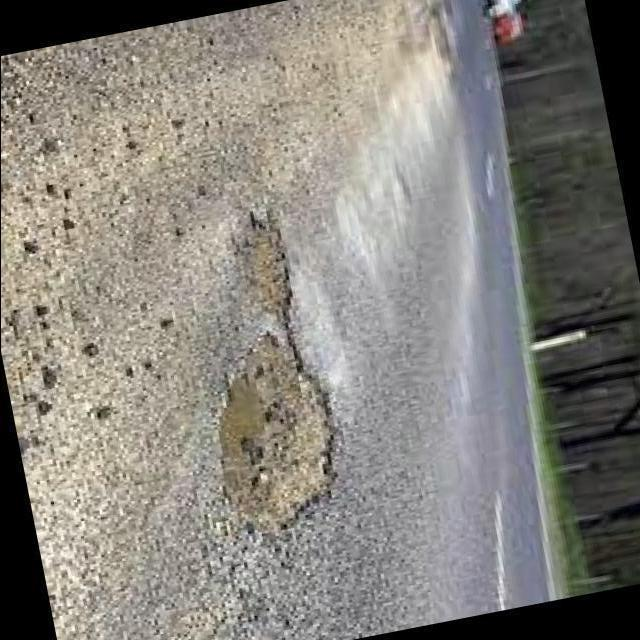pothole: (220, 210, 331, 529)
